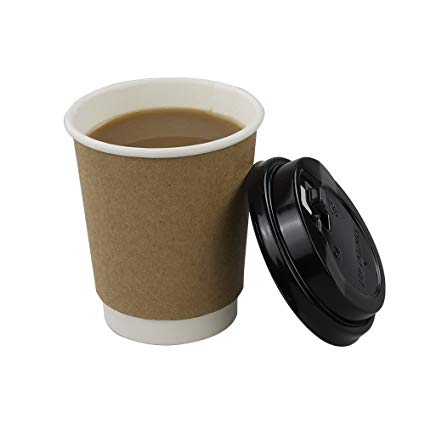Rec_Paper: (60, 54, 268, 355)
